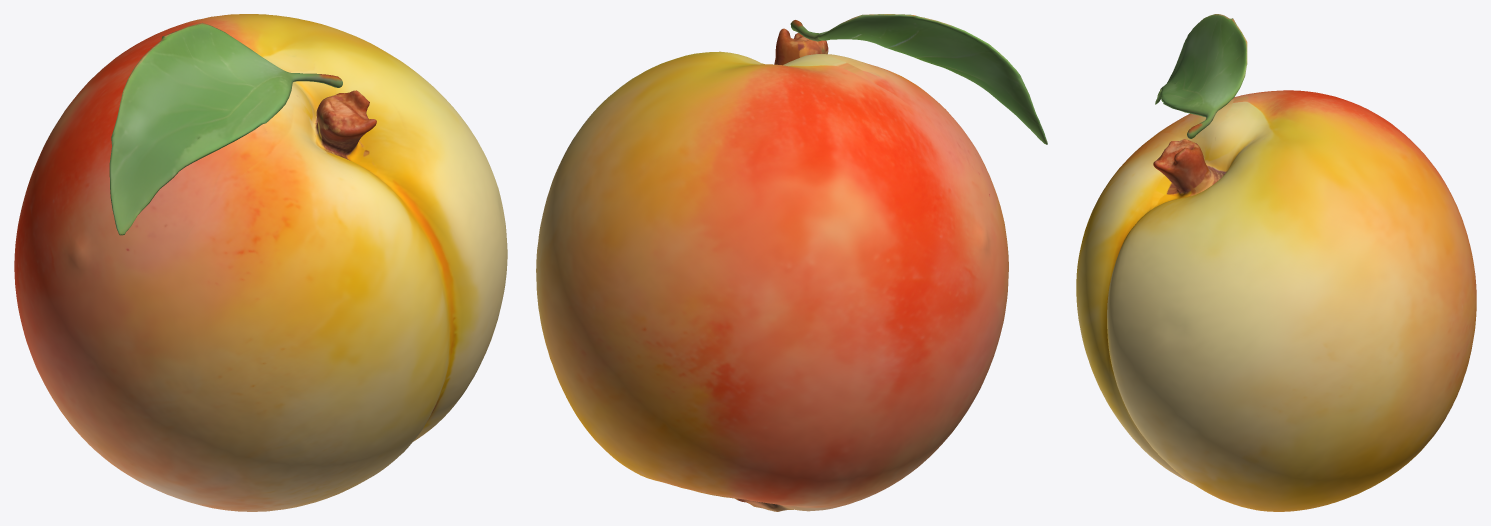
The model's file is apricot.glb.
3 views of the same model, side by side, from view 1: azimuth 30°, elevation 25°; view 2: azimuth 150°, elevation 25°; view 3: azimuth 270°, elevation 25° (orthographic). The views are drawn at different scales.
Parts seen in each view (by area): view 1: Object_2; view 2: Object_2; view 3: Object_2.
Part boxes in pixels (x1=…): Object_2: x1=14, y1=14, x2=507, y2=511; Object_2: x1=536, y1=14, x2=1047, y2=511; Object_2: x1=1076, y1=14, x2=1476, y2=511.
Size of the model in its own units: 0.0875 by 0.1 by 0.0849.
1 material, 1 textured.
